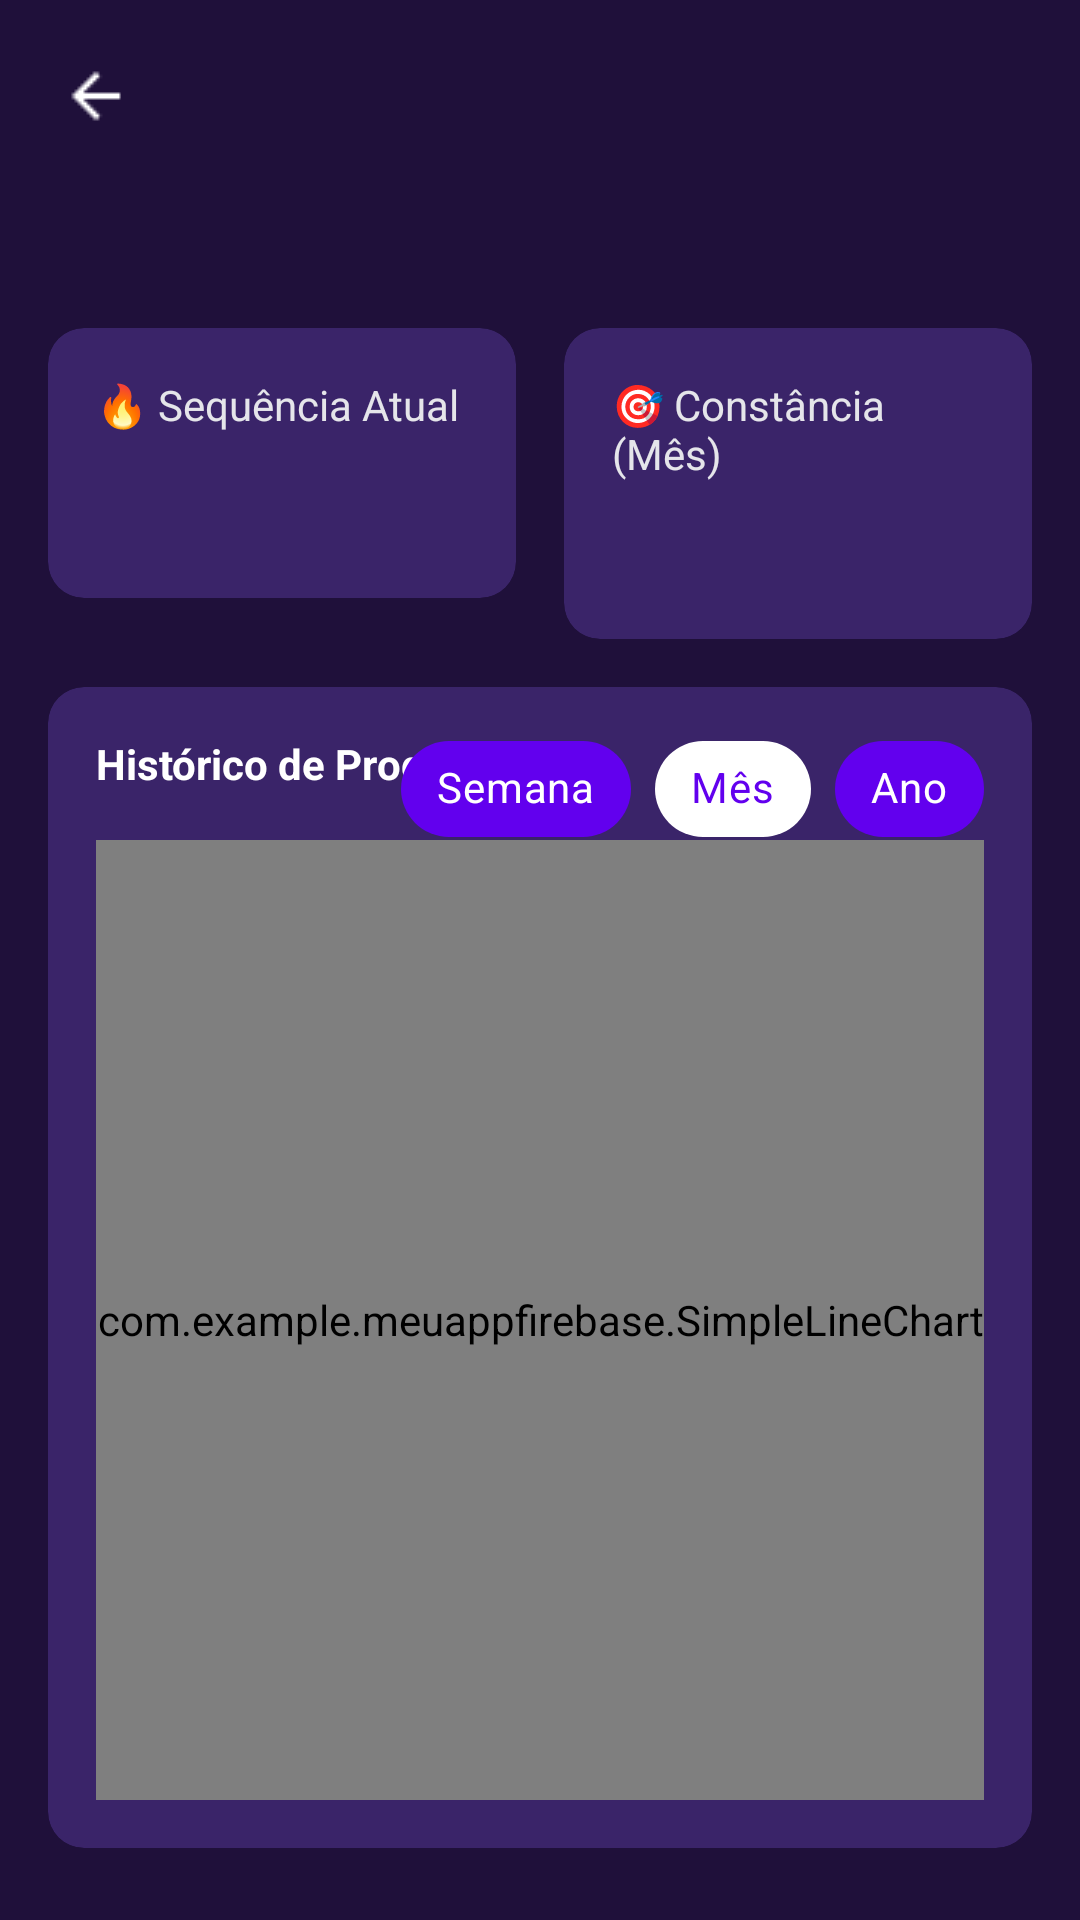

Named icons in this screenshot (1080x1920) and their centers, point (x, y):
arrow back: point (96, 96)
